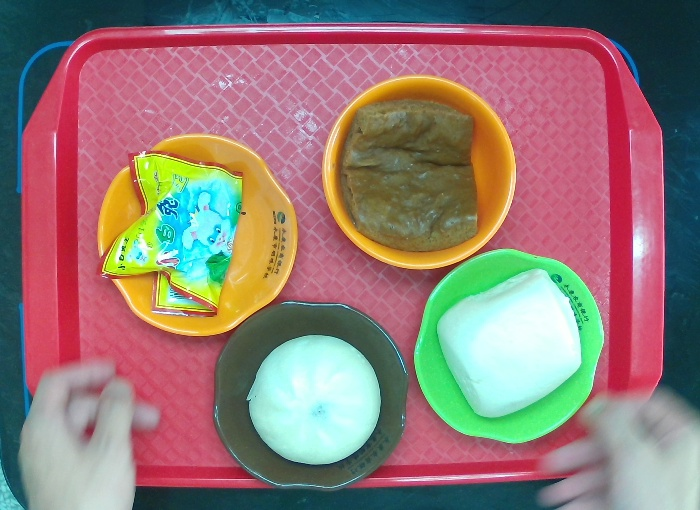YKMZ-Ju_Se_Ao_Bian_Wan: (91, 123, 308, 345)
YKMZ-Ju_Se_Yuan_Wan: (317, 70, 535, 282)
YKMZ-Ka_Fei_Ao_Bian_Wan: (206, 284, 424, 496)
YKMZ-Lv_Se_Ao_Bian_Wan: (405, 242, 623, 454)
